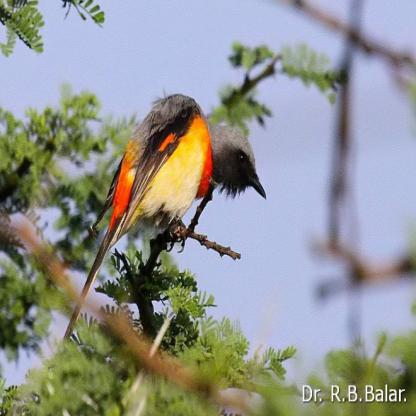Burung: (62, 93, 266, 342)
